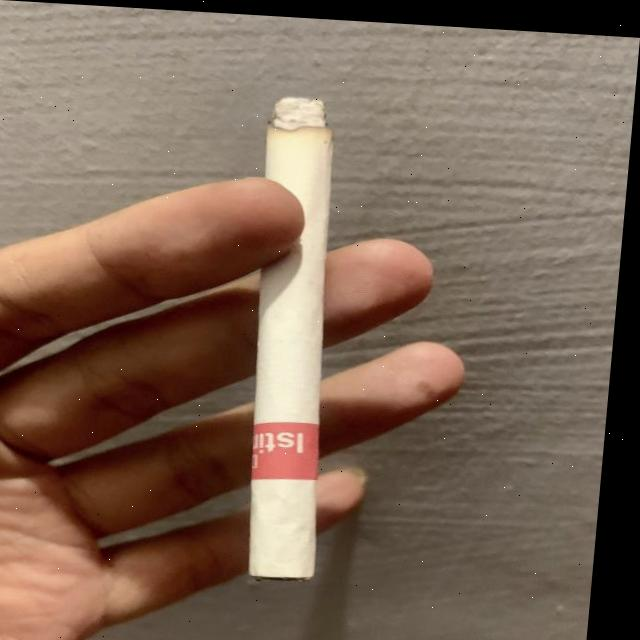cigarette: (237, 86, 356, 578)
